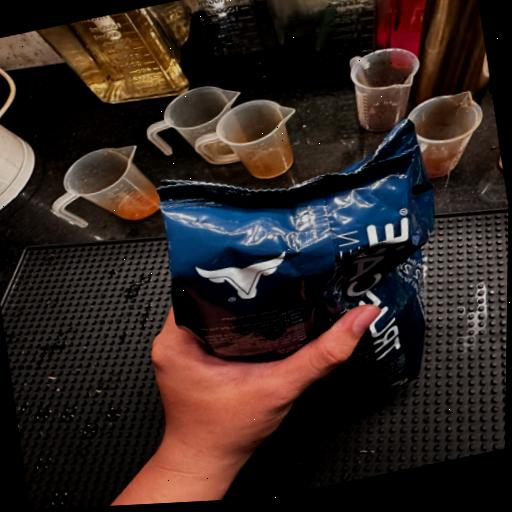cafe_hat: (158, 120, 434, 404)
